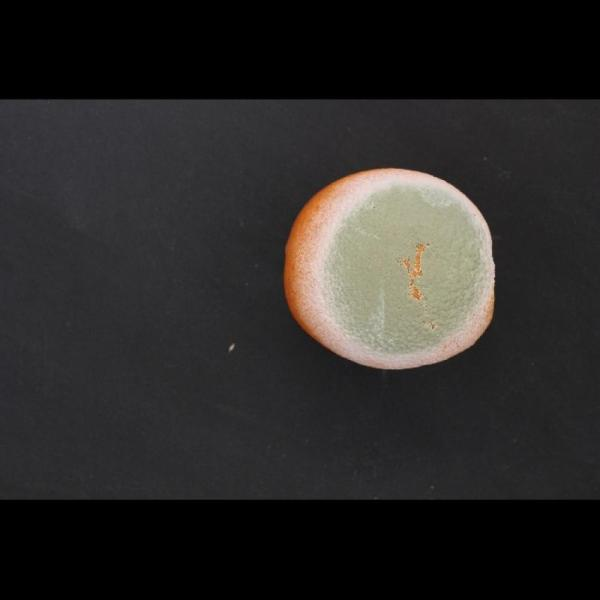Moho verde: (269, 158, 517, 376)
